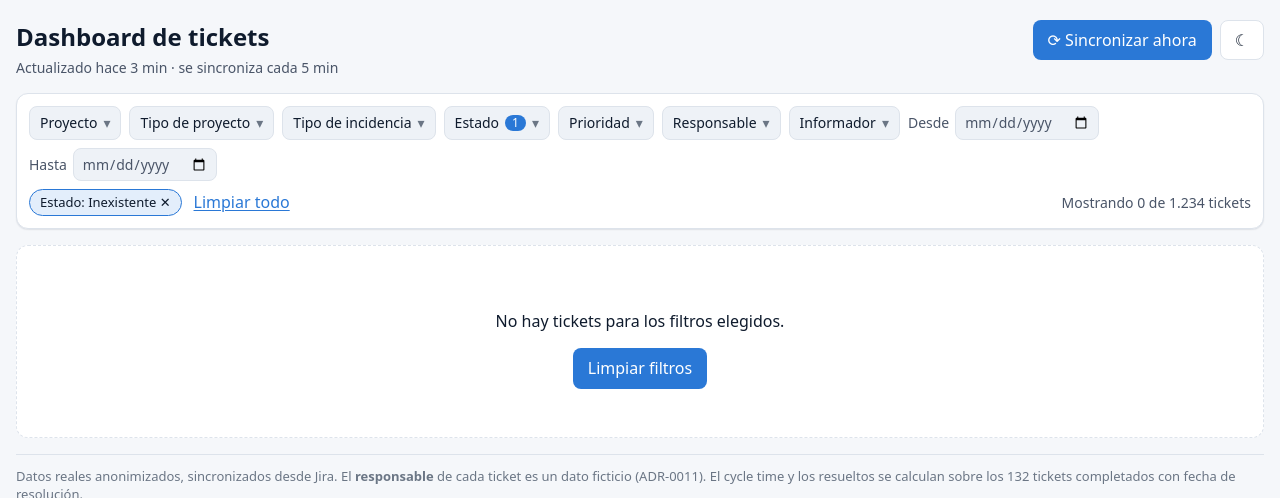
it: filtros › sin resultados ofrece limpiar los filtros
The width and height of the screenshot is (1280, 498).
Expected: the text "No hay tickets para los filtros elegidos." is shown, left=496, top=310, right=784, bottom=332
Click the button "Limpiar filtros": point(640, 368) left=573, top=348, right=707, bottom=389
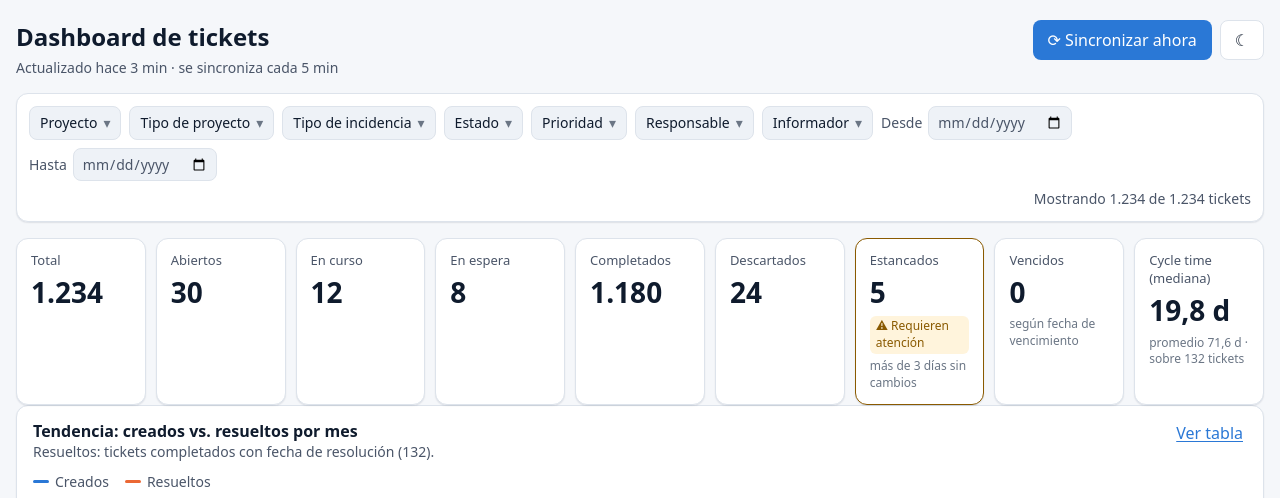
Result: the heading "Total" is shown at left=31, top=251, right=60, bottom=269
Result: the text "No hay tickets para los filtros elegidos." is gone
